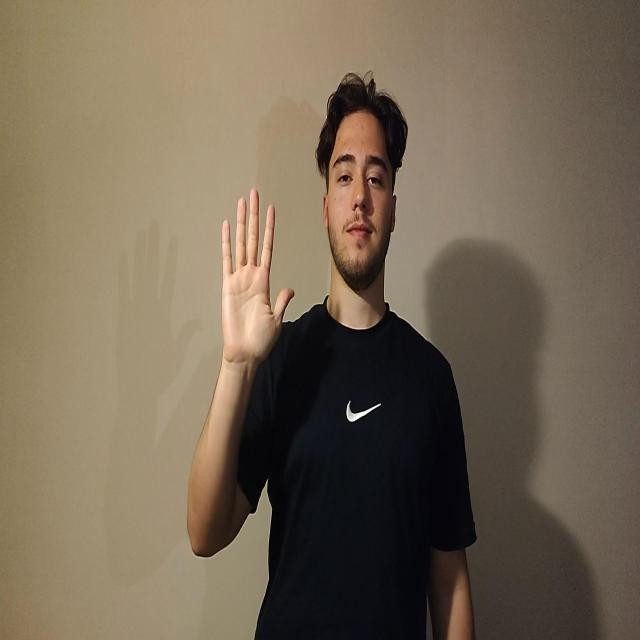hello: (220, 187, 295, 366)
